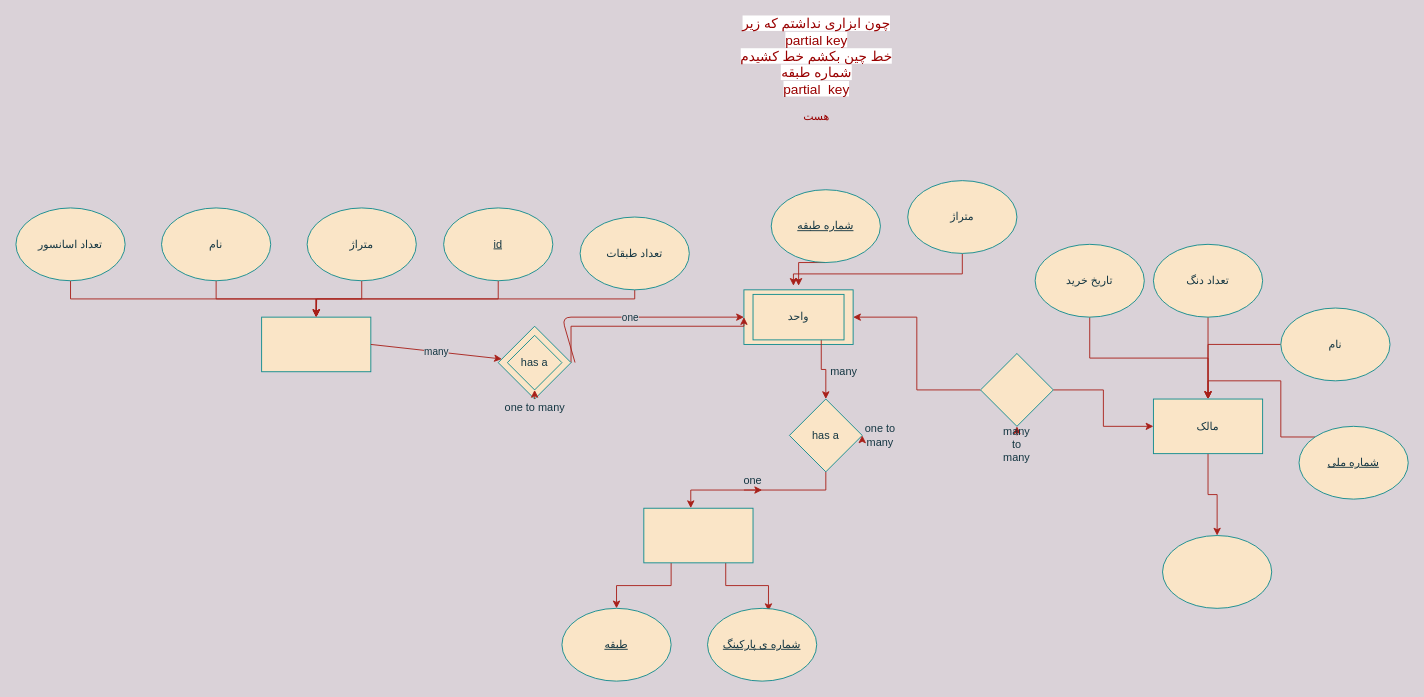
This 1424x697 diagram has some shape labels left out. The box of each missing label's shape, as (x1, y1, x2, y2) in pixels:
has to: (980, 353, 1053, 426)
ساختمان: (261, 316, 371, 372)
نام خانوادگی: (1162, 535, 1272, 608)
پارکینگ: (643, 507, 753, 563)
